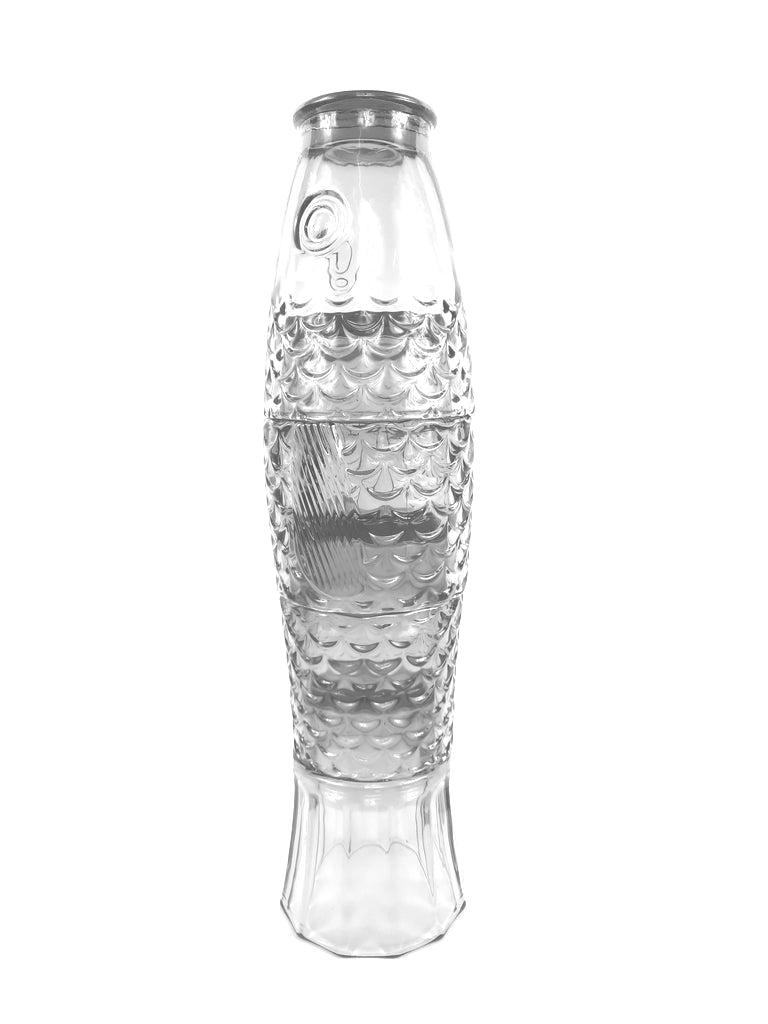bottle: (247, 78, 493, 975)
